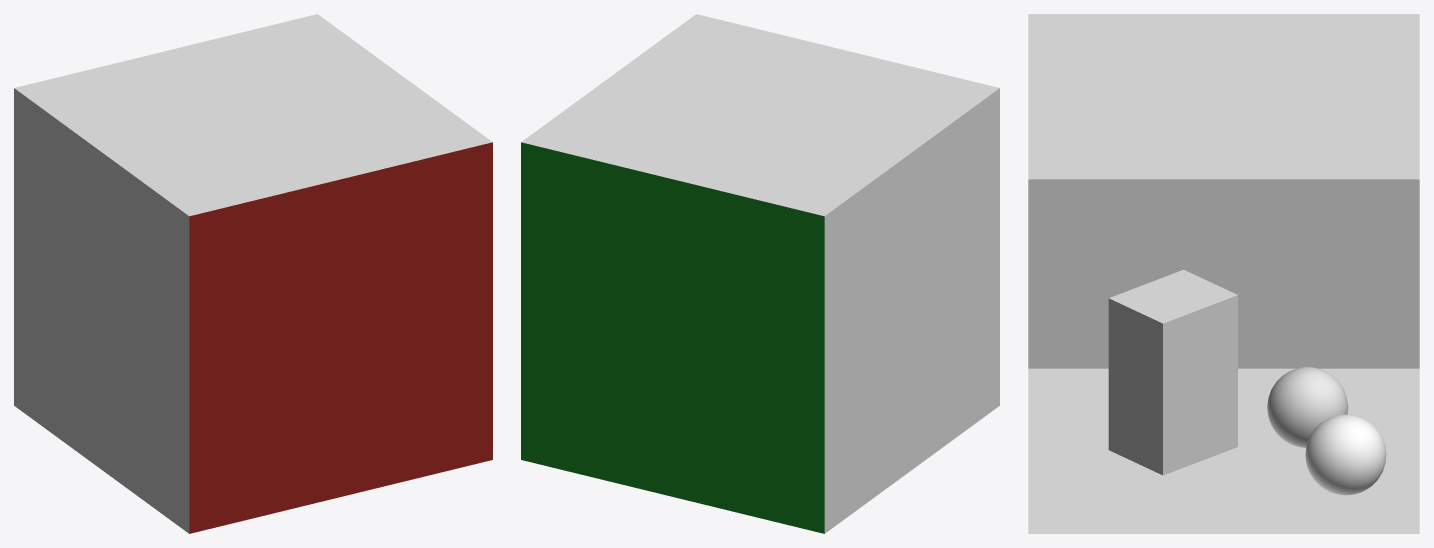
3 views of the same model, side by side, from view 1: azimuth 30°, elevation 25°; view 2: azimuth 150°, elevation 25°; view 3: azimuth 270°, elevation 25° (orthographic). The views are drawn at different scales.
Parts seen in each view (by area): view 1: Cube; view 2: Cube; view 3: Cube, Cube.001, Sphere, Sphere.001.
Part boxes in pixels (<box>): Cube: <box>14,14,492,533</box>; Cube: <box>521,14,999,533</box>; Cube: <box>1028,14,1419,533</box>; Cube.001: <box>1108,269,1237,475</box>; Sphere: <box>1305,414,1386,495</box>; Sphere.001: <box>1267,367,1348,447</box>.
Bounding box in the file's own units: 9.65 × 9.69 × 9.65.
